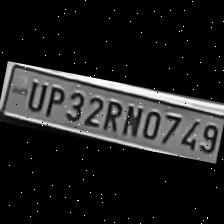0: (138, 105, 163, 140)
2: (81, 90, 106, 127)
3: (62, 86, 86, 122)
4: (176, 114, 202, 150)
7: (157, 110, 181, 144)
9: (195, 118, 221, 154)
N: (119, 100, 144, 138)
P: (41, 82, 66, 117)
R: (100, 96, 124, 132)
U: (22, 76, 48, 112)
